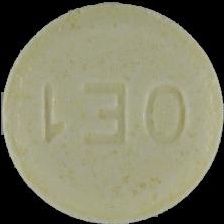0378-5510: (0, 0, 224, 224)
